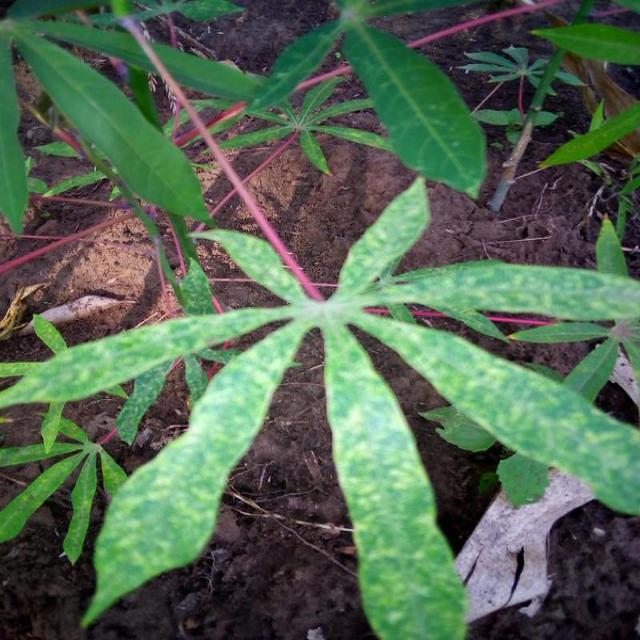cassava leaf: (1, 4, 638, 637), (5, 18, 212, 225), (339, 16, 487, 201)
